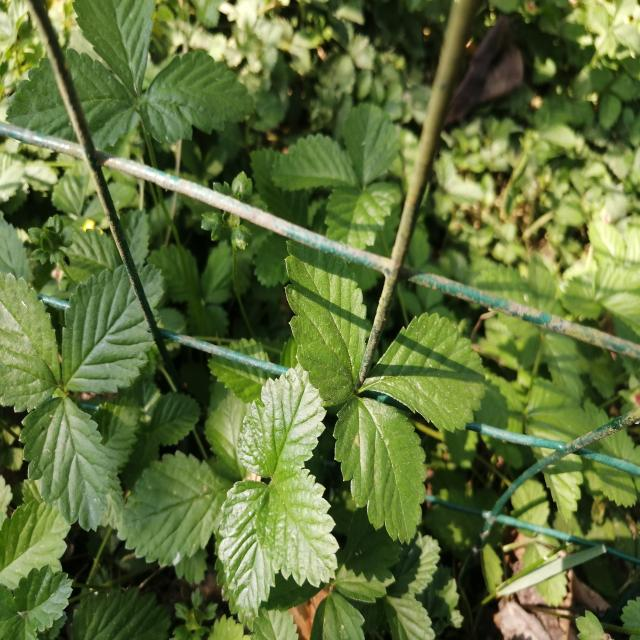Mock_strawberry: (0, 262, 165, 505)
